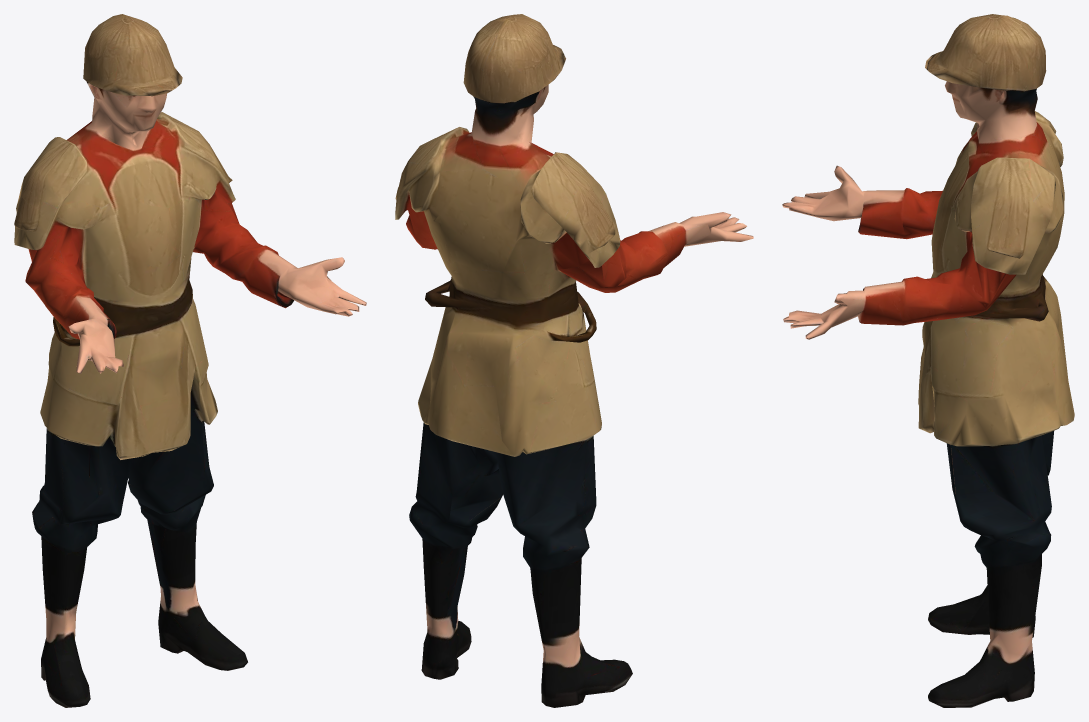
The model's file is unit_DV_NO.glb.
3 views of the same model, side by side, from view 1: azimuth 30°, elevation 25°; view 2: azimuth 150°, elevation 25°; view 3: azimuth 270°, elevation 25° (orthographic).
Size of the model in its own units: 0.8807 by 1.88 by 0.7672.
1 material, 1 textured.
